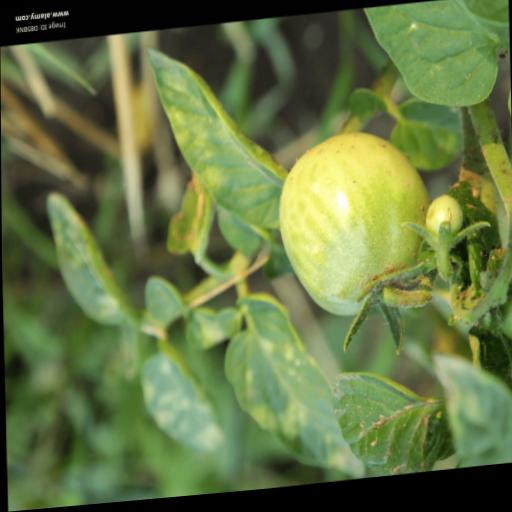Mosaic Virus: (217, 285, 369, 497), (145, 37, 292, 249), (136, 333, 233, 482)
